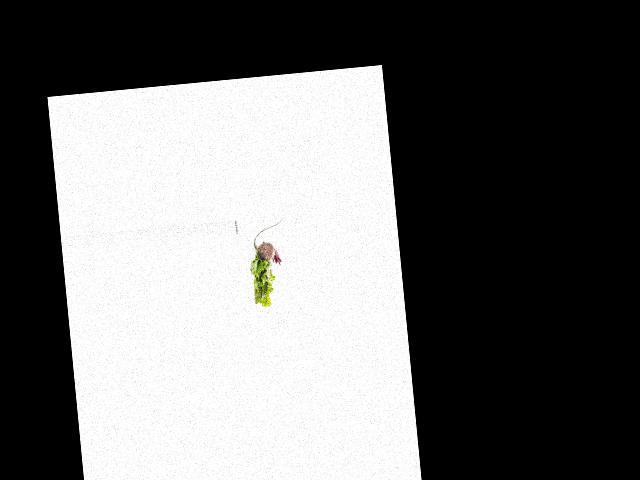beet: (251, 217, 286, 267)
